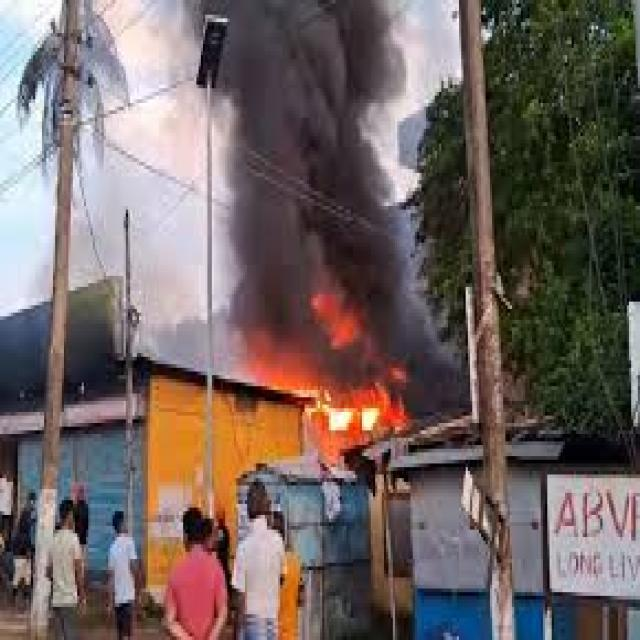Fire: (231, 0, 424, 357), (263, 304, 410, 442)
